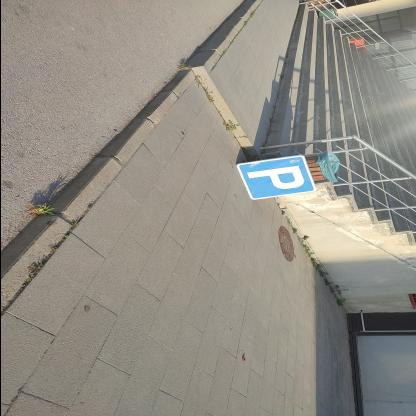Parking-Sign: (235, 155, 319, 202)
